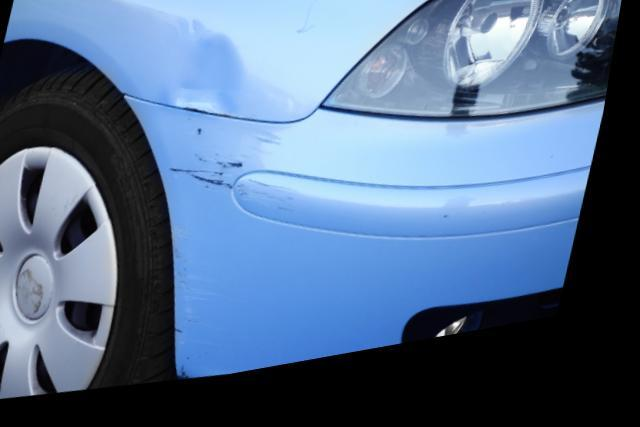dent: (175, 39, 249, 120)
scratch: (177, 160, 311, 221), (180, 227, 232, 356)
